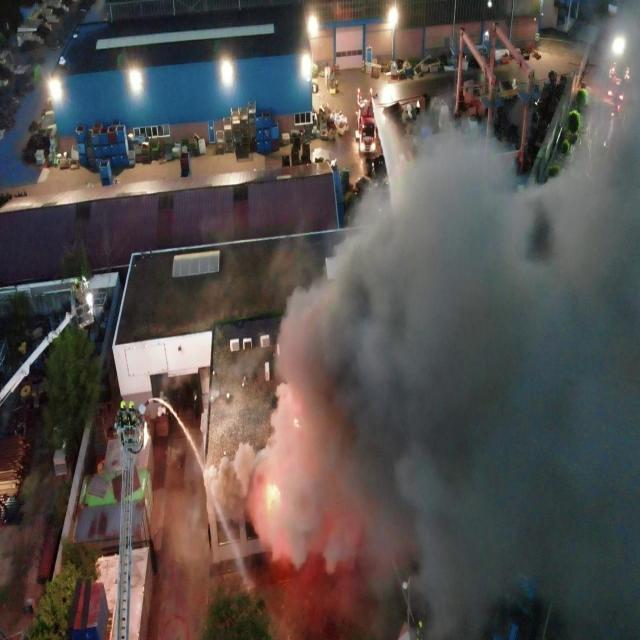Fire: (266, 484, 280, 508), (294, 417, 300, 428)
Smoke: (202, 0, 640, 640)
